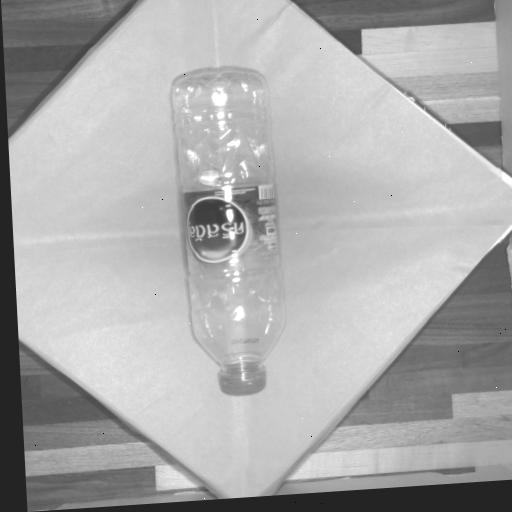bottle: (156, 63, 297, 406)
